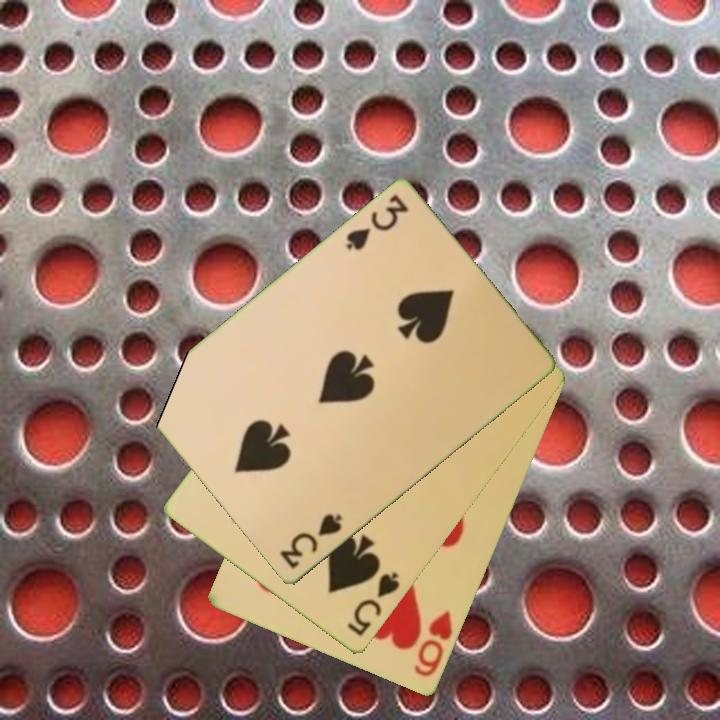3s: (276, 510, 346, 573), (342, 191, 412, 254)
5s: (343, 568, 403, 640)
6h: (410, 608, 456, 680)
